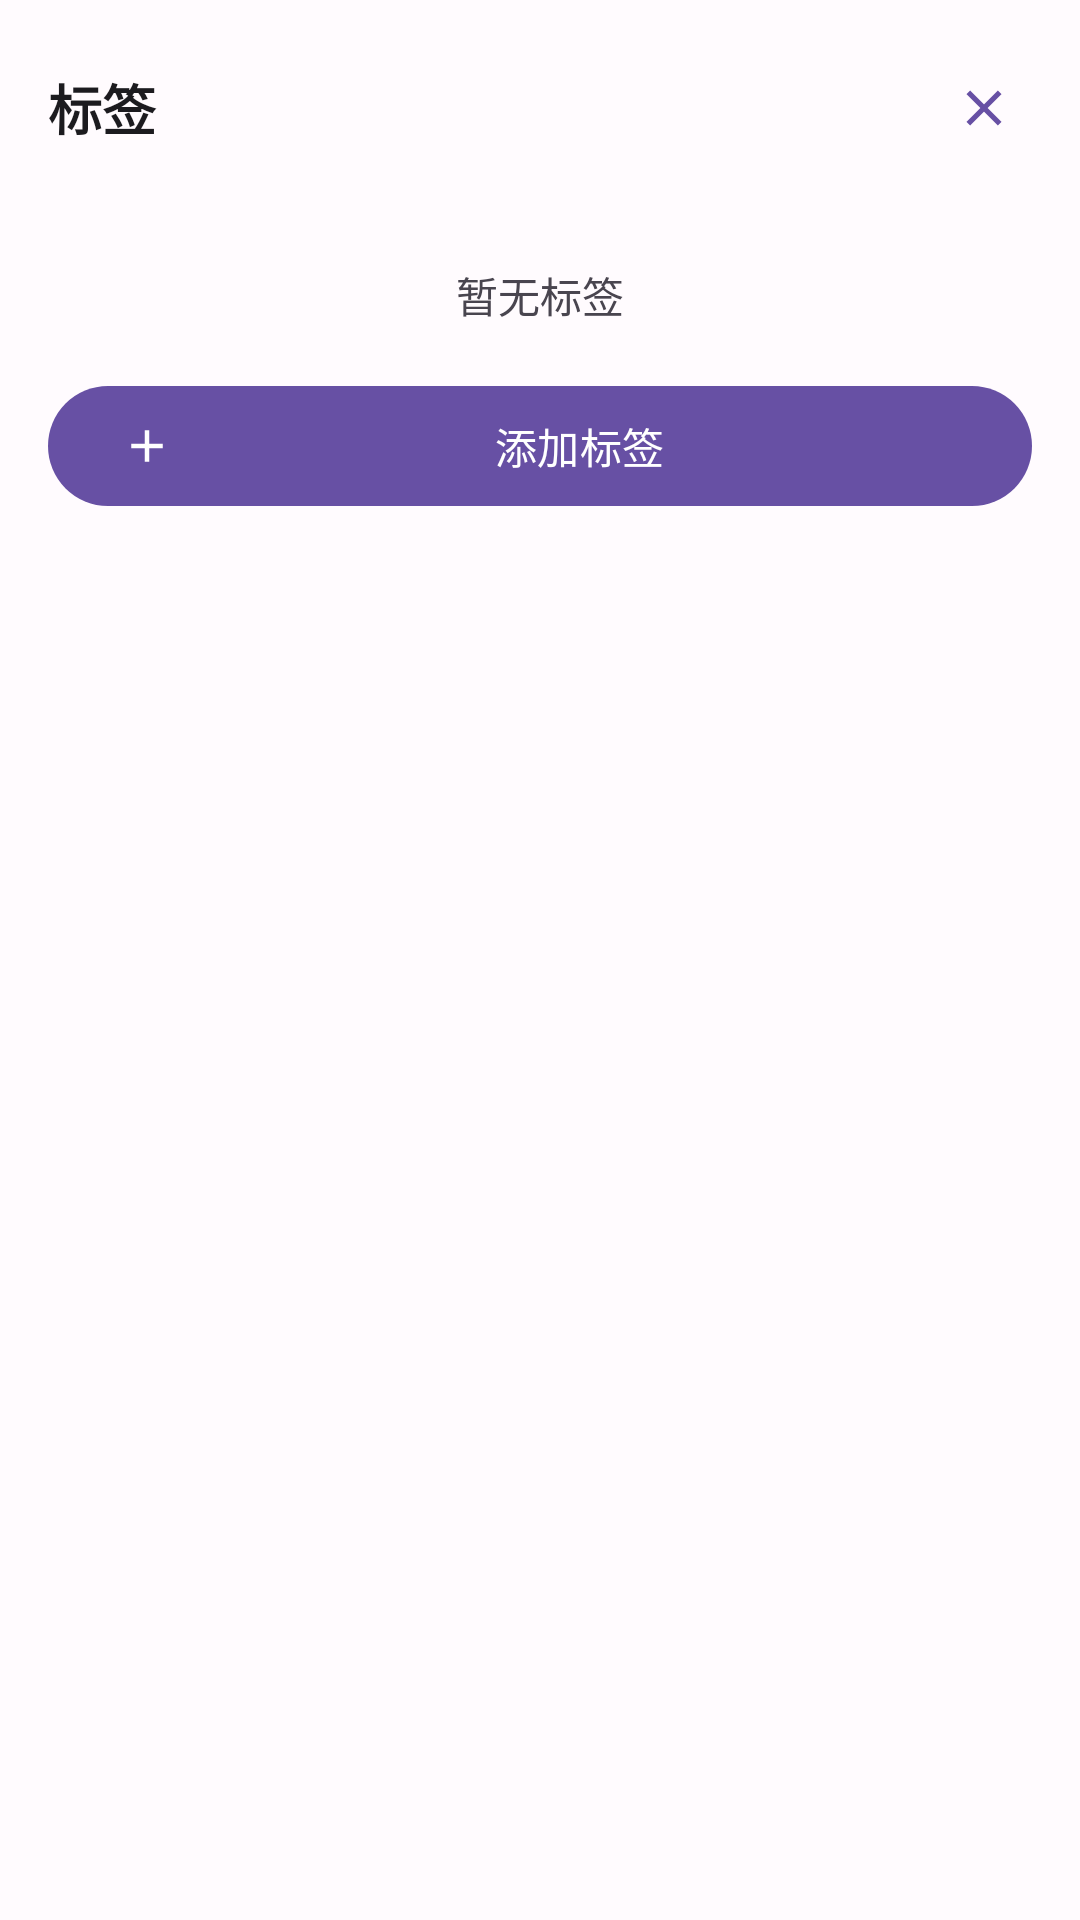

Icon click points for this 1080px x 1920px phone screenshot, format point (x, y):
关闭: point (984, 108)
